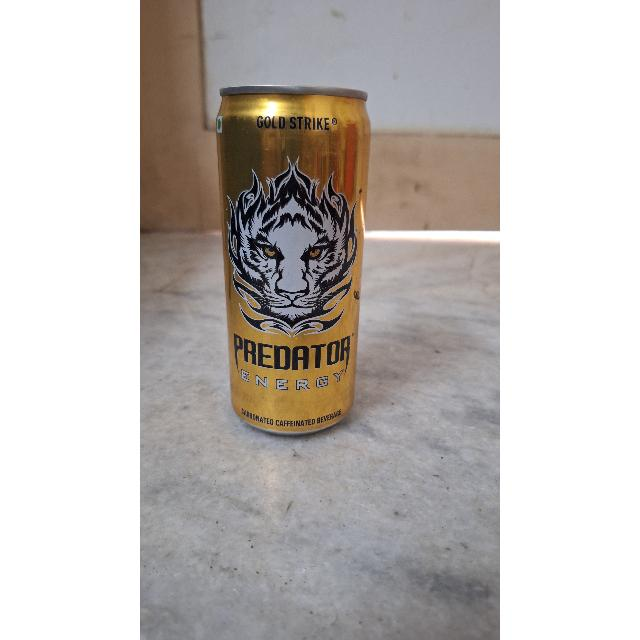Predator: (211, 80, 379, 448)
